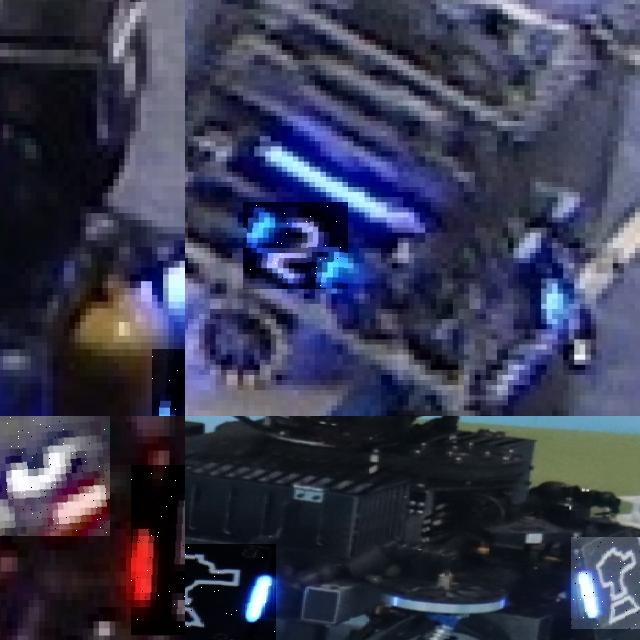B2: (243, 202, 348, 289)
B4: (152, 349, 185, 416)
Bs: (185, 543, 275, 640), (571, 536, 640, 629)
R5: (0, 416, 109, 536), (131, 464, 185, 635)
